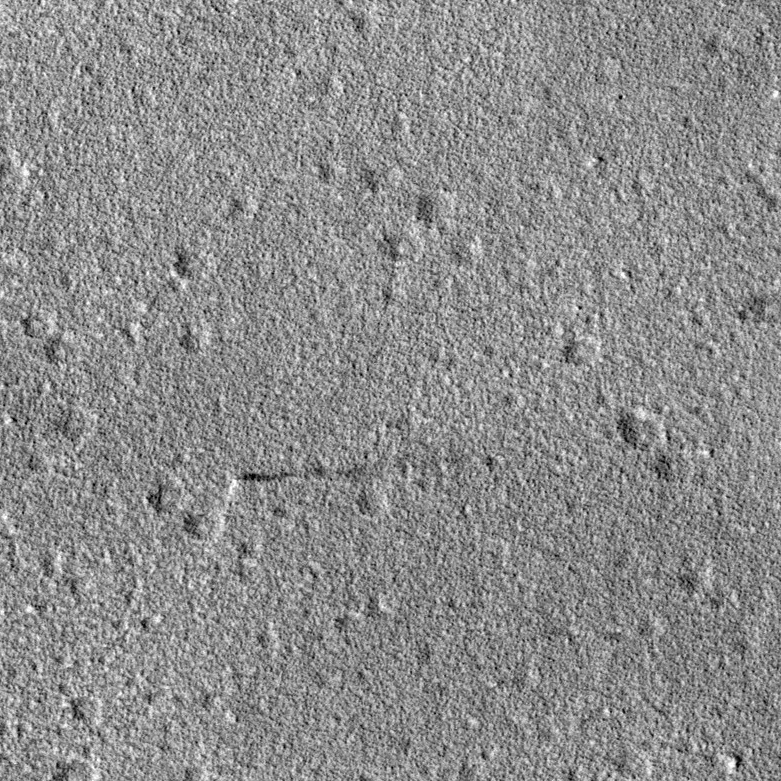dust_devil: (214, 467, 298, 535)
